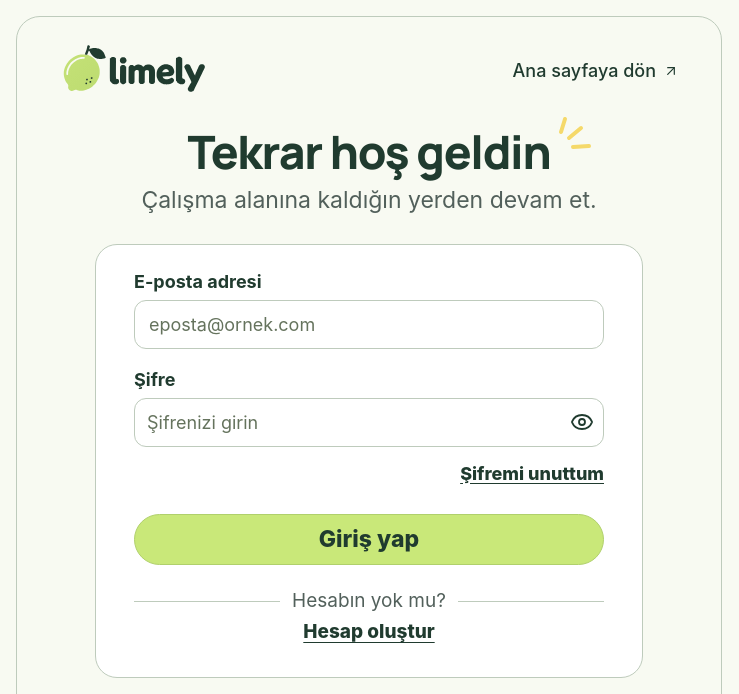
Test: workspace entry and session recovery › takes a pending client profile to status without requesting client resources
Step 1. Type "synthetic@example.test" into the field labelled "E-posta adresi" → (369, 324), box [134,300,604,349]
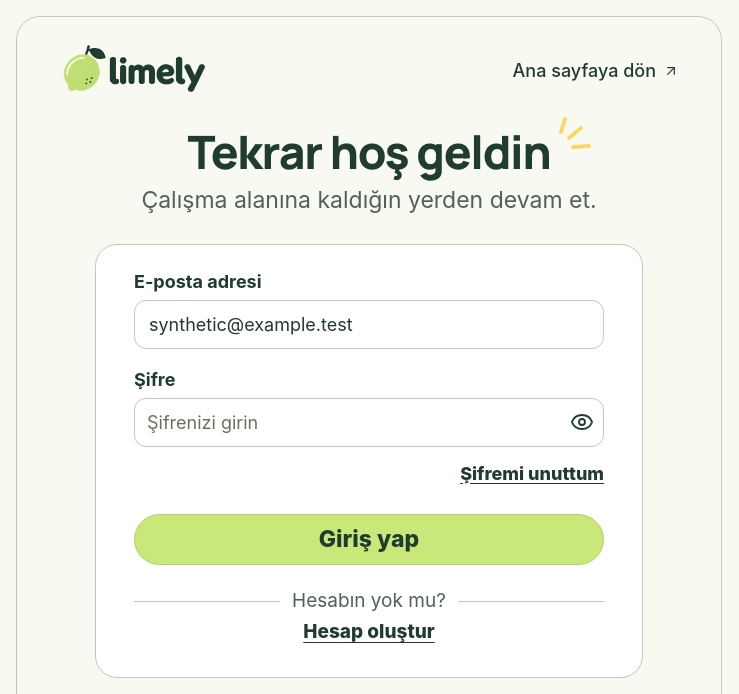
Step 2. Type "synthetic password" into the password field labelled "Şifre" → (369, 422), box [134,398,604,447]
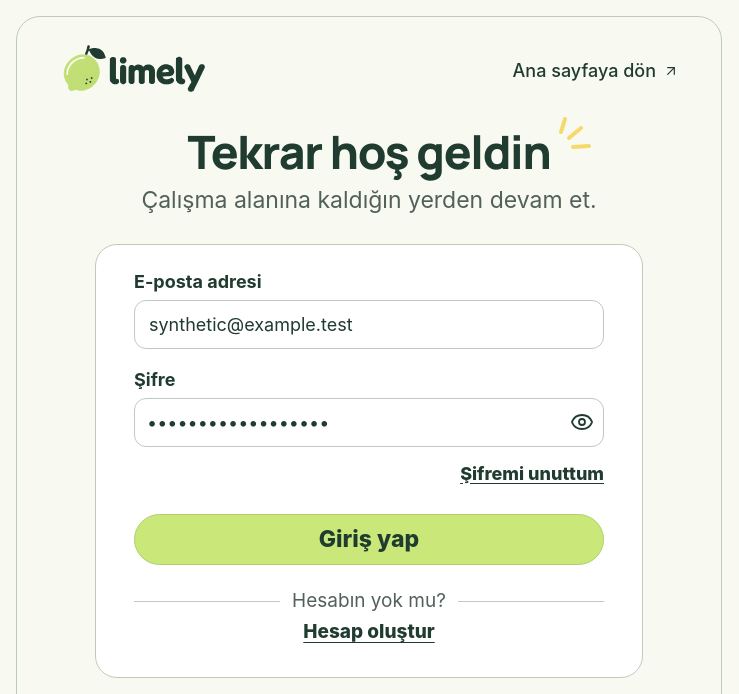
Step 3. Click the button "Giriş yap" → (369, 540), box [134,514,604,565]
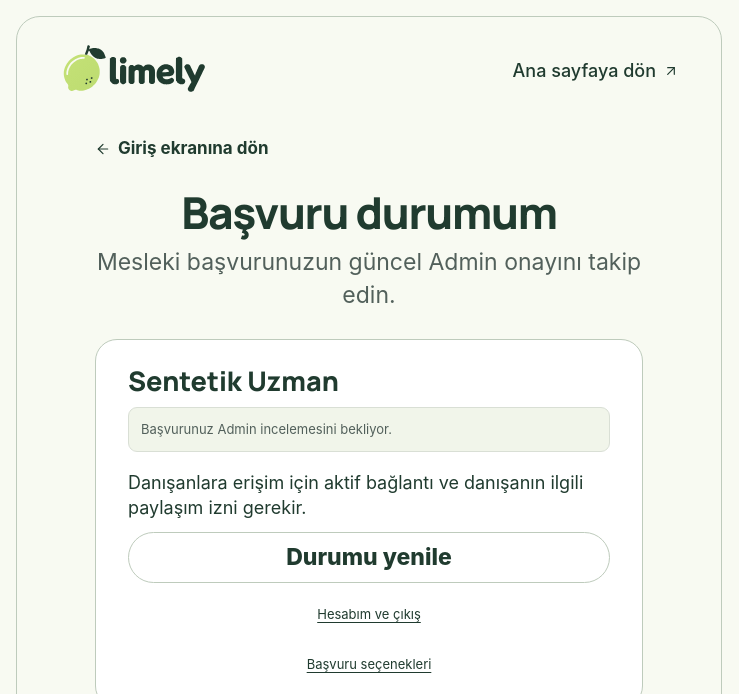
Expected: the text "Başvurunuz Admin incelemesini bekliyor." is shown, [128,408,610,452]
